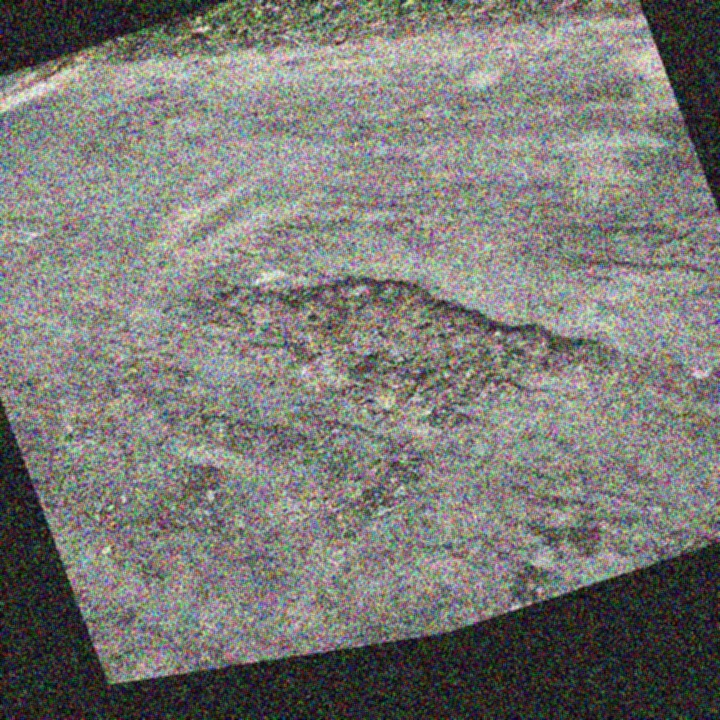pothole: (184, 171, 634, 505)
